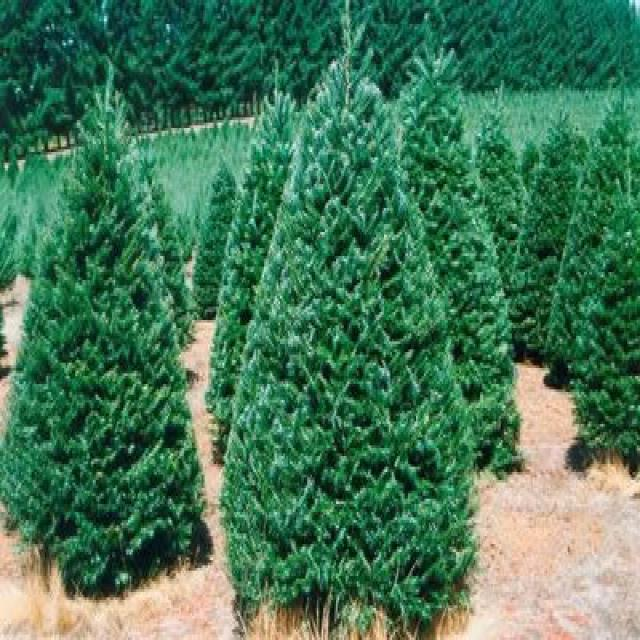Abies: (215, 46, 480, 606)
